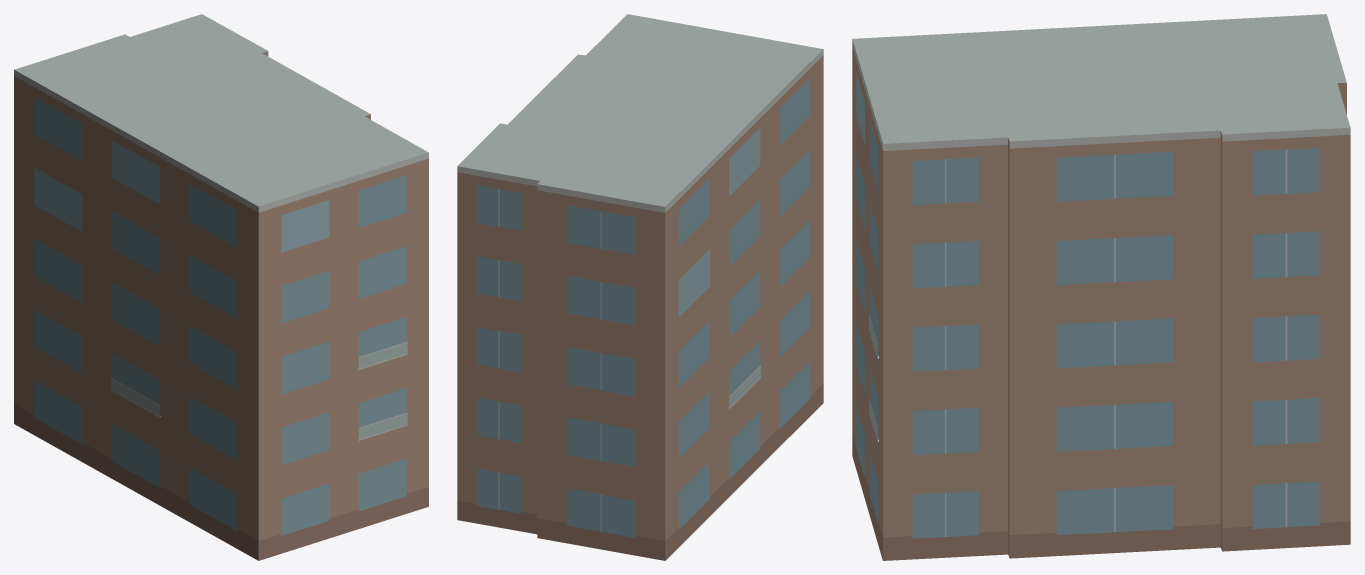
The model's file is survey-upis-32645108.glb.
3 views of the same model, side by side, from view 1: azimuth 30°, elevation 25°; view 2: azimuth 150°, elevation 25°; view 3: azimuth 270°, elevation 25° (orthographic). The views are drawn at different scales.
Visible parts, largest first — view 1: survey-upis-32645108.tmp; view 2: survey-upis-32645108.tmp; view 3: survey-upis-32645108.tmp.
Boxes of the visible parts, x1,y1,x2,y2 form: survey-upis-32645108.tmp: (14, 14, 428, 560); survey-upis-32645108.tmp: (457, 14, 823, 560); survey-upis-32645108.tmp: (852, 14, 1350, 560).
Bounding box in the file's own units: 9.57 × 14.3 × 15.5.
